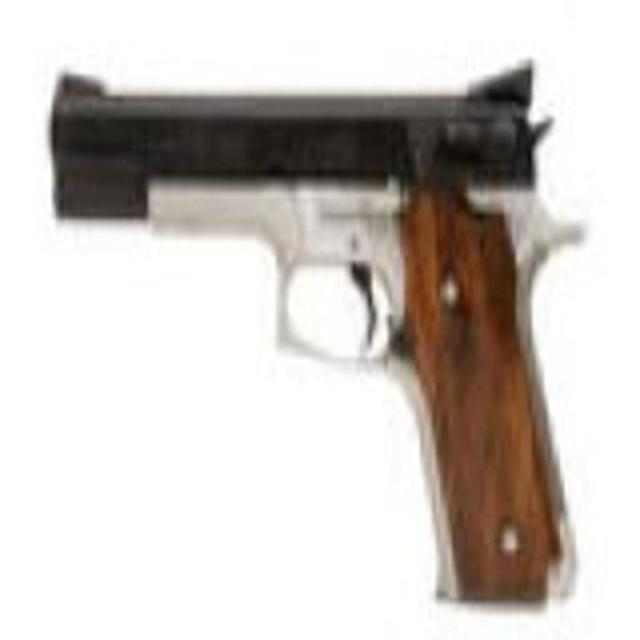pistol: (43, 58, 591, 624)
